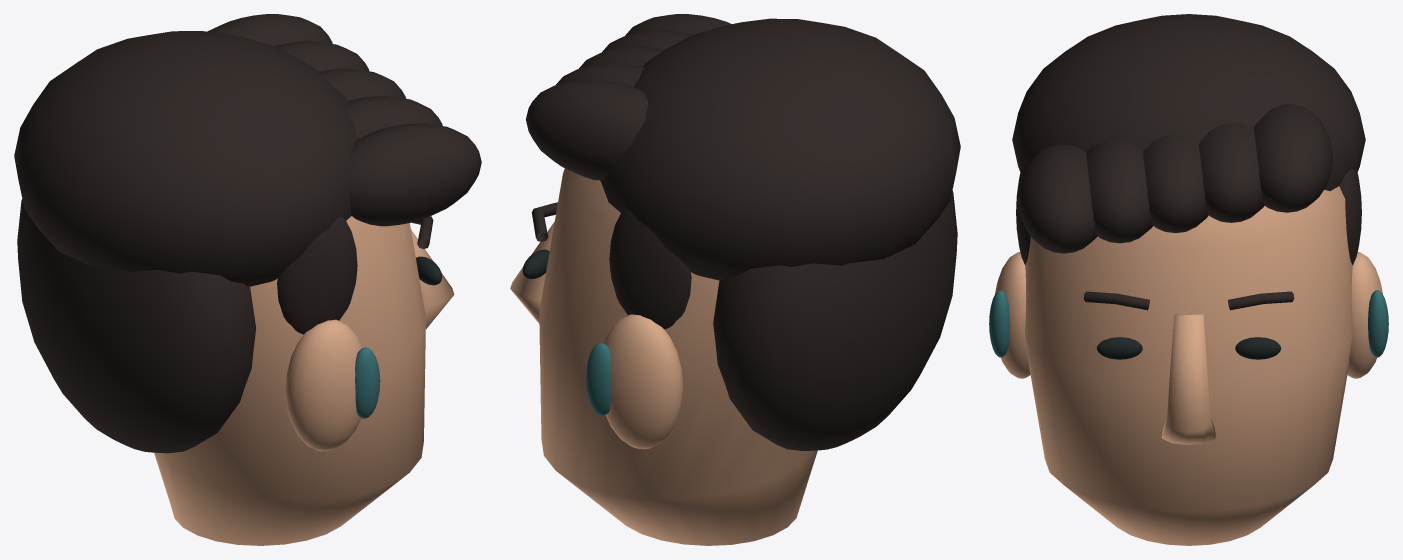
File: SM_Hider_Head.glb
3 views of the same model, side by side, from view 1: azimuth 30°, elevation 25°; view 2: azimuth 150°, elevation 25°; view 3: azimuth 270°, elevation 25° (orthographic). The views are drawn at different scales.
Parts seen in each view (by area): view 1: SM_Hider_Head; view 2: SM_Hider_Head; view 3: SM_Hider_Head.
Part boxes in pixels (x1,y1,x2,y2): SM_Hider_Head: (14, 14, 481, 545); SM_Hider_Head: (510, 14, 960, 545); SM_Hider_Head: (989, 14, 1388, 545).
Bounding box in the file's own units: 0.233 × 0.254 × 0.208.
